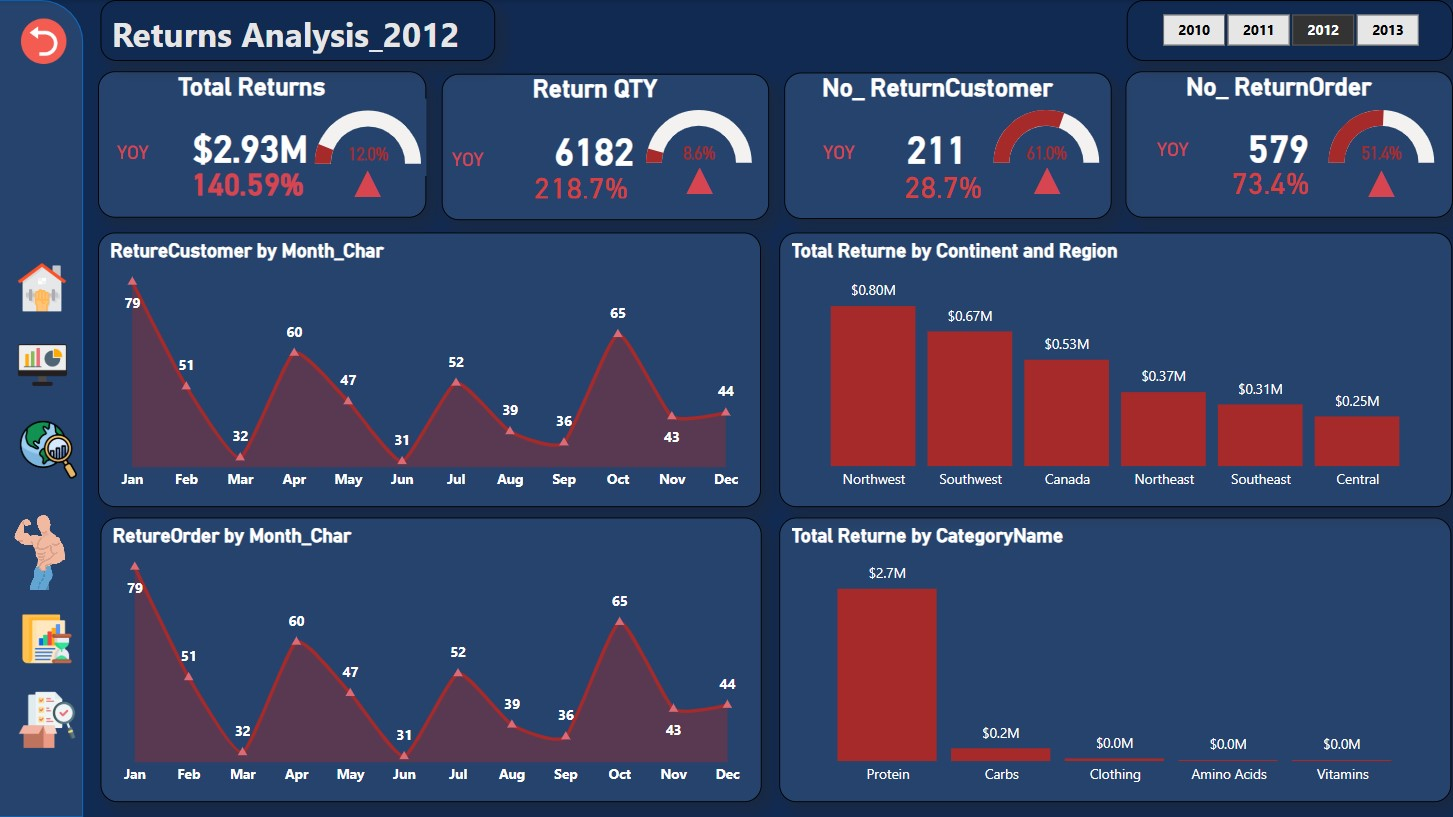

The dashboard page shown, as its layout file describes it:
{"tool":"powerbi","page":{"name":"Returne Analysis","canvas":[1280,720],"ordinal":5},"visuals":[{"type":"shape","box":[0,0,75,719.1],"z":0,"group":"g5"},{"type":"slicer","fields":{"Values":["dtbl_Calender.Year"]},"box":[992.9,0,286.9,53.6],"z":0},{"type":"card","title":"No_ ReturnOrder ","fields":{"Values":["Reture Analysis.No_ RetureOrder"]},"box":[992,62.4,288,128.5],"z":1000,"group":"g4"},{"type":"card","title":"Return QTY","fields":{"Values":["Reture Analysis.Reture QTY"]},"box":[390,64.9,288,128.5],"z":1000,"group":"g2"},{"type":"lineChart","title":" RetureCustomer by Month_Char","fields":{"Category":["dtbl_Calender.Month_Char"],"Y":["Reture Analysis.No_ RetureCustomer"]},"box":[88.1,204.8,583.3,241.7],"z":1000},{"type":"card","title":"No_ ReturnCustomer","fields":{"Values":["Reture Analysis.No_ RetureCustomer"]},"box":[691.3,63.6,288,128.5],"z":2000,"group":"g3"},{"type":"lineChart","title":" RetureOrder by Month_Char","fields":{"Category":["dtbl_Calender.Month_Char"],"Y":["Reture Analysis.No_ RetureOrder"]},"box":[90.2,455.2,581.7,250.7],"z":2000},{"type":"clusteredColumnChart","fields":{"Category":["dtbl_Product.CategoryName","dtbl_Product.SubcategoryName","dtbl_Product.ProductName"],"Y":["Calculation.Total Returne"]},"box":[687.2,455.2,591.6,250.7],"z":3000},{"type":"card","title":"Total Returns","fields":{"Values":["Calculation.Total Returne"]},"box":[90.8,63.4,288.9,128.5],"z":4000,"group":"g1"},{"type":"card","fields":{"Values":["Time Analysis.VAR LY FOR CY %retureorder"]},"box":[1014,120.9,211.2,58.7],"z":4000,"group":"g4"},{"type":"clusteredColumnChart","fields":{"Y":["Calculation.Total Returne"],"Category":["dtbl_Customers.Continent","dtbl_Customers.Region","dtbl_Customers.CountryName","dtbl_Customers.StateName"]},"box":[687.2,204.9,591.8,241.8],"z":4000},{"type":"actionButton","box":[89.8,0,347.1,53.6],"z":5000},{"type":"card","fields":{"Values":["Time Analysis.VAR LY FOR CY %returecustomer"]},"box":[720.4,124.2,222.4,59.8],"z":5000,"group":"g3"},{"type":"group","id":"g1","title":"Group 1","box":[90.8,63.4,289.9,128.5],"z":6000},{"type":"gauge","fields":{"Y":["Reture Analysis.%Customer from total"]},"box":[870.4,85.2,103.1,68.7],"z":6000,"group":"g3"},{"type":"group","id":"g2","title":"Group 2","box":[390,64.9,288,128.5],"z":7000},{"type":"gauge","fields":{"Y":["Reture Analysis.%Order from total"]},"box":[1165.7,85.3,103.1,68.7],"z":7000,"group":"g4"},{"type":"group","id":"g3","title":"Group 3","box":[691.3,63.6,288,128.5],"z":8000},{"type":"card","fields":{"Values":["Time Analysis.VAR LY FOR CY %reture$"]},"box":[102,125.3,240.8,55],"z":8000,"group":"g1"},{"type":"group","id":"g4","title":"Group 4","box":[992,62.4,288,128.5],"z":9000},{"type":"card","fields":{"Values":["Time Analysis.VAR LY FOR CY %retureQTY"]},"box":[394.1,129.8,238.3,49.7],"z":9000,"group":"g2"},{"type":"group","id":"g5","title":"Group 5","box":[0,0,82.6,719.1],"z":10000},{"type":"gauge","fields":{"Y":["Calculation.Returns%"]},"box":[289.9,87.8,90.8,67.1],"z":10000,"group":"g1"},{"type":"gauge","fields":{"Y":["Reture Analysis.%Reture QTY FOR TOATAL"]},"box":[565,85.3,103.1,68.7],"z":11000,"group":"g2"},{"type":"card","fields":{"Values":["Calculation.ARROW RETUREcustomer"]},"box":[894.3,133.2,57.6,50.8],"z":12000,"group":"g3"},{"type":"card","fields":{"Values":["Calculation.ARROW RETUREorder"]},"box":[1189,135.5,56.5,50.8],"z":13000,"group":"g4"},{"type":"image","box":[15.5,9.5,50,53.6],"z":14000,"group":"g5"},{"type":"image","title":"dddd","box":[5.6,225,66,55],"z":15000,"group":"g5"},{"type":"image","box":[5.6,295.2,67,53],"z":16000,"group":"g5"},{"type":"image","box":[5.6,604.1,75,59],"z":17000,"group":"g5"},{"type":"card","fields":{"Values":["Calculation.ARROW RETURE$"]},"box":[303.7,137.5,54.7,46],"z":18000,"group":"g1"},{"type":"image","box":[9,446,56.5,79],"z":18000,"group":"g5"},{"type":"image","box":[5.6,363.4,77,63],"z":19000,"group":"g5"},{"type":"card","fields":{"Values":["Calculation.ARROW RETUREQTY"]},"box":[588.3,132.1,57.6,51.9],"z":20000,"group":"g2"},{"type":"image","box":[5.6,535.9,74.5,53],"z":20000,"group":"g5"}]}

Visuals, with their boxes in screenshot pixels (x1, y1, x2, y2), scaled from the page's 1280x720 canvas onto the 1453x817 screenshot:
shape: 0/0/85/816
slicer - dtbl_Calender.Year: 1127/0/1452/61
"No_ ReturnOrder " card: 1126/71/1452/217
"Return QTY" card: 443/74/770/219
" RetureCustomer by Month_Char" lineChart: 100/232/762/507
"No_ ReturnCustomer" card: 785/72/1112/218
" RetureOrder by Month_Char" lineChart: 102/517/763/801
clusteredColumnChart - dtbl_Product.CategoryName x dtbl_Product.SubcategoryName: 780/517/1452/801
"Total Returns" card: 103/72/431/218
card - Time Analysis.VAR LY FOR CY %retureorder: 1151/137/1391/204
clusteredColumnChart - Calculation.Total Returne x dtbl_Customers.Continent: 780/233/1452/507
actionButton: 102/0/496/61
card - Time Analysis.VAR LY FOR CY %returecustomer: 818/141/1070/209
"Group 1" group: 103/72/432/218
gauge - Reture Analysis.%Customer from total: 988/97/1105/175
"Group 2" group: 443/74/770/219
gauge - Reture Analysis.%Order from total: 1323/97/1440/175
"Group 3" group: 785/72/1112/218
card - Time Analysis.VAR LY FOR CY %reture$: 116/142/389/205
"Group 4" group: 1126/71/1452/217
card - Time Analysis.VAR LY FOR CY %retureQTY: 447/147/718/204
"Group 5" group: 0/0/94/816
gauge - Calculation.Returns%: 329/100/432/176
gauge - Reture Analysis.%Reture QTY FOR TOATAL: 641/97/758/175
card - Calculation.ARROW RETUREcustomer: 1015/151/1081/209
card - Calculation.ARROW RETUREorder: 1350/154/1414/211
image: 18/11/74/72
"dddd" image: 6/255/81/318
image: 6/335/82/395
image: 6/685/91/752
card - Calculation.ARROW RETURE$: 345/156/407/208
image: 10/506/74/596
image: 6/412/94/484
card - Calculation.ARROW RETUREQTY: 668/150/733/209
image: 6/608/91/668
